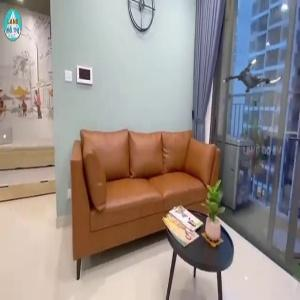drone: (229, 51, 282, 104)
